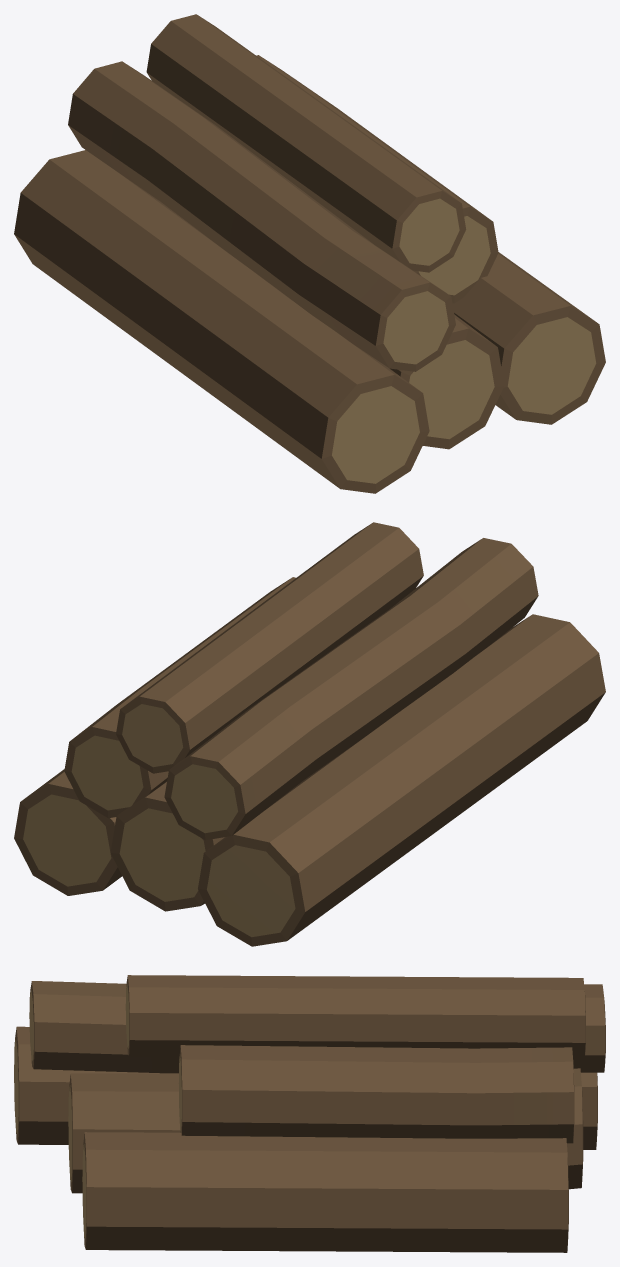
Rendered from Chopped_logs.fbx.
3 views of the same model, one above another, from view 1: azimuth 30°, elevation 25°; view 2: azimuth 150°, elevation 25°; view 3: azimuth 270°, elevation 25° (orthographic). The views are drawn at different scales.
Visible parts, largest first — view 1: Chopped_logs; view 2: Chopped_logs; view 3: Chopped_logs.
Boxes of the visible parts, left/top/right/bottom form: Chopped_logs: left=14, top=14, right=605, bottom=493; Chopped_logs: left=14, top=522, right=605, bottom=946; Chopped_logs: left=14, top=975, right=605, bottom=1252.
Size of the model in its own units: 157 by 112 by 268.
1 material, 1 textured.
